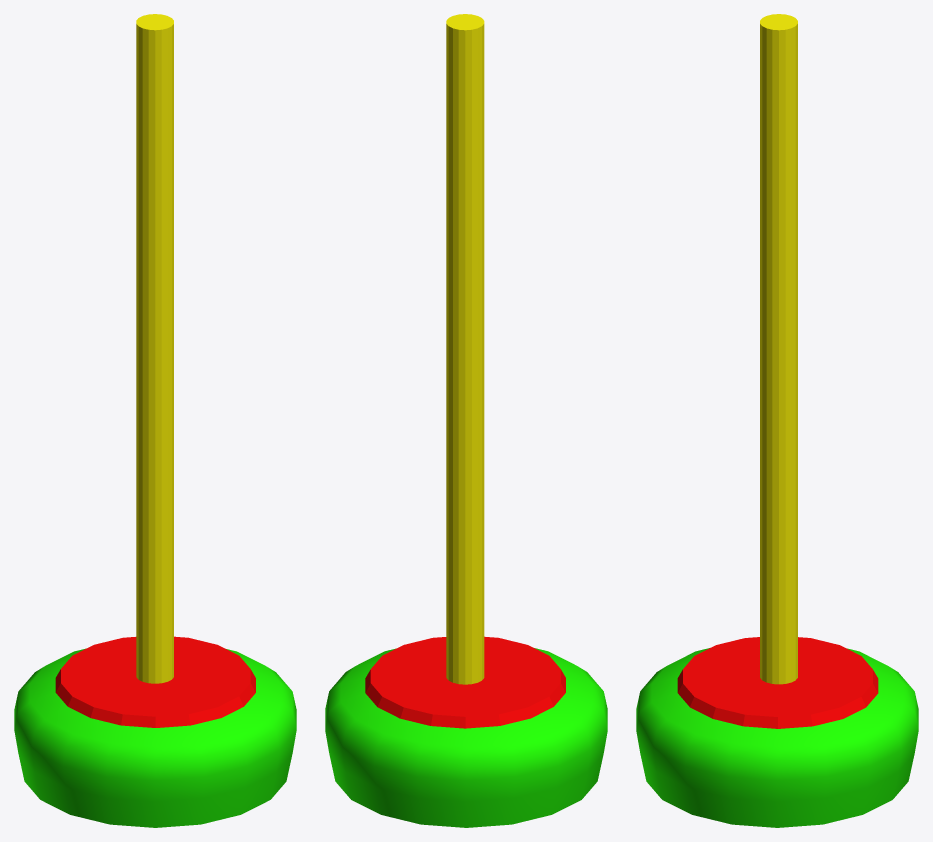
The model's file is umgebung_wischmop_low.FBX.
The picture shows the model from 3 angles, left to right: view 1: azimuth 30°, elevation 25°; view 2: azimuth 150°, elevation 25°; view 3: azimuth 270°, elevation 25°; orthographic projection.
Visible parts, largest first — view 1: o_mop_low, o_griff_low, o_verbindung_low; view 2: o_mop_low, o_griff_low, o_verbindung_low; view 3: o_mop_low, o_griff_low, o_verbindung_low.
Part boxes in pixels (x1,y1,x2,y2): o_mop_low: [14, 648, 296, 827]; o_griff_low: [136, 14, 173, 683]; o_verbindung_low: [55, 636, 255, 727]; o_mop_low: [325, 648, 607, 827]; o_griff_low: [446, 14, 484, 684]; o_verbindung_low: [365, 636, 565, 728]; o_mop_low: [636, 648, 918, 827]; o_griff_low: [760, 14, 797, 684]; o_verbindung_low: [677, 637, 878, 728].
Size of the model in its own units: 59.61 by 58.71 by 172.
